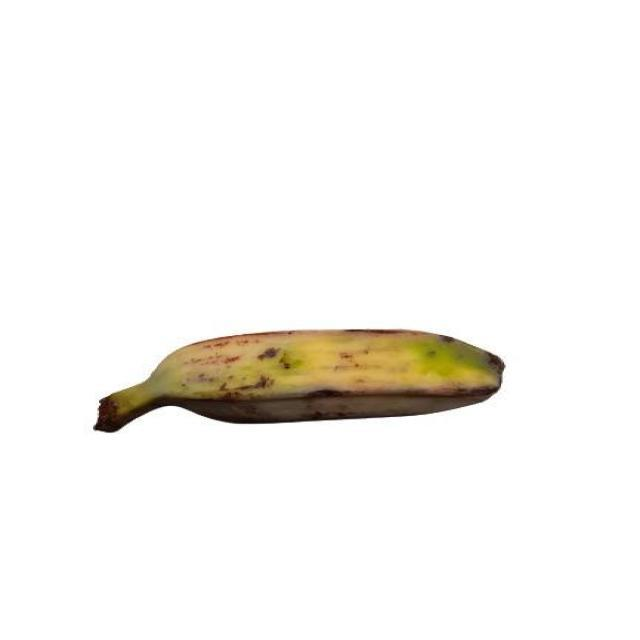banana: (145, 323, 510, 431)
